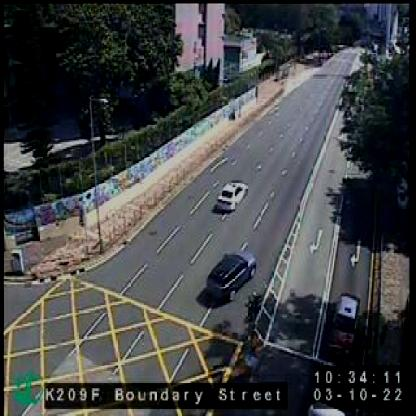Car: (206, 252, 256, 296), (326, 295, 360, 352), (214, 180, 246, 206)
